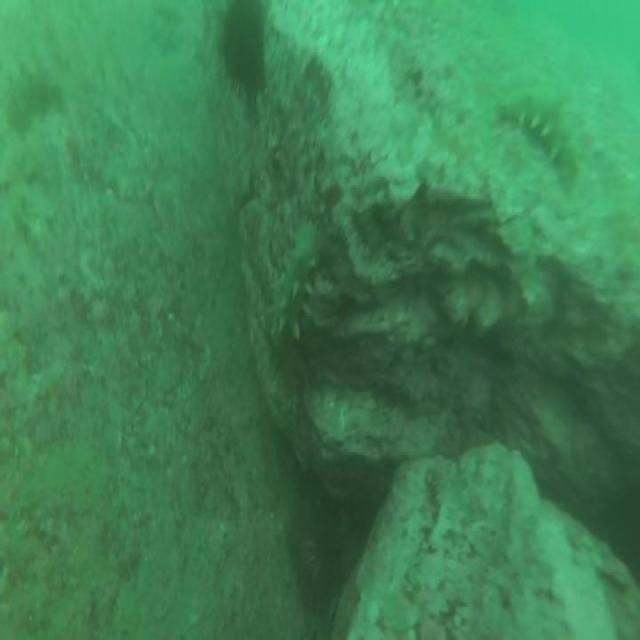echinus: (217, 0, 267, 100)
holothurian: (499, 85, 581, 193), (265, 213, 325, 349), (7, 57, 65, 142)
